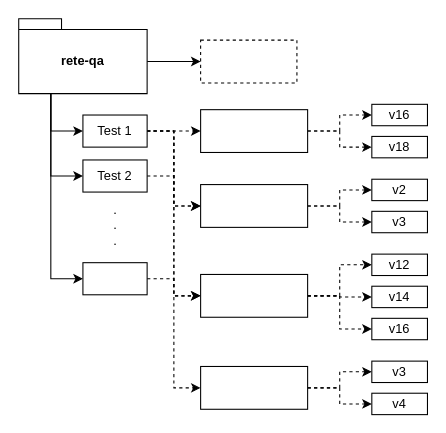
This 446x433 diagram has some shape labels left out. The shapes that lost their labels are listed below. From the top down, each one's centre as x and y in pixels, then its label:
At (x=248, y=61): "Playwright".
At (x=254, y=130): "React.js".
At (x=254, y=205): "Vue.js".
At (x=114, y=278): "Test N".
At (x=254, y=295): "Angular".
At (x=254, y=387): "Svelte".
